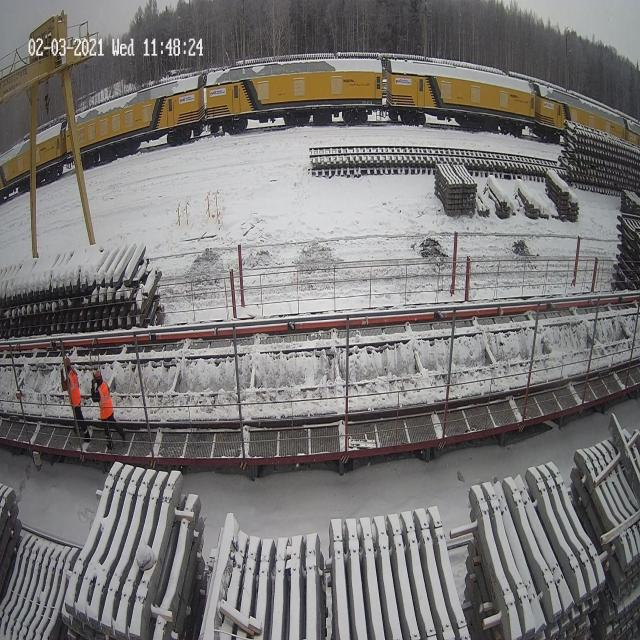Person: (91, 368, 125, 451), (60, 356, 91, 440)
